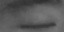LeftEyeFatigue: (11, 9, 57, 32)
